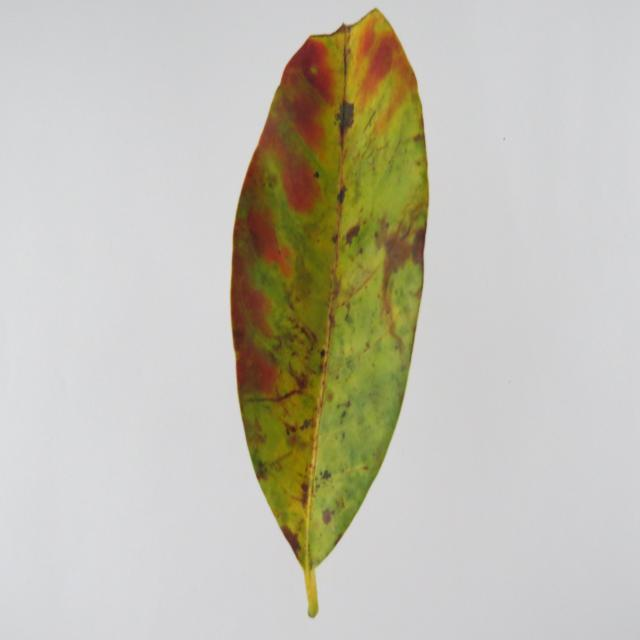DeficienciaNutricional-Fosforo: (231, 10, 429, 617)
